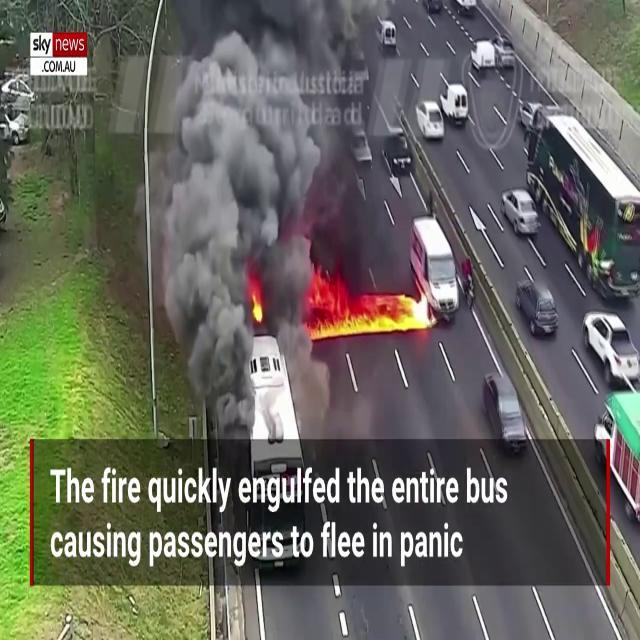Fire: (308, 274, 432, 336), (248, 277, 266, 329)
Smoke: (121, 1, 397, 323)
